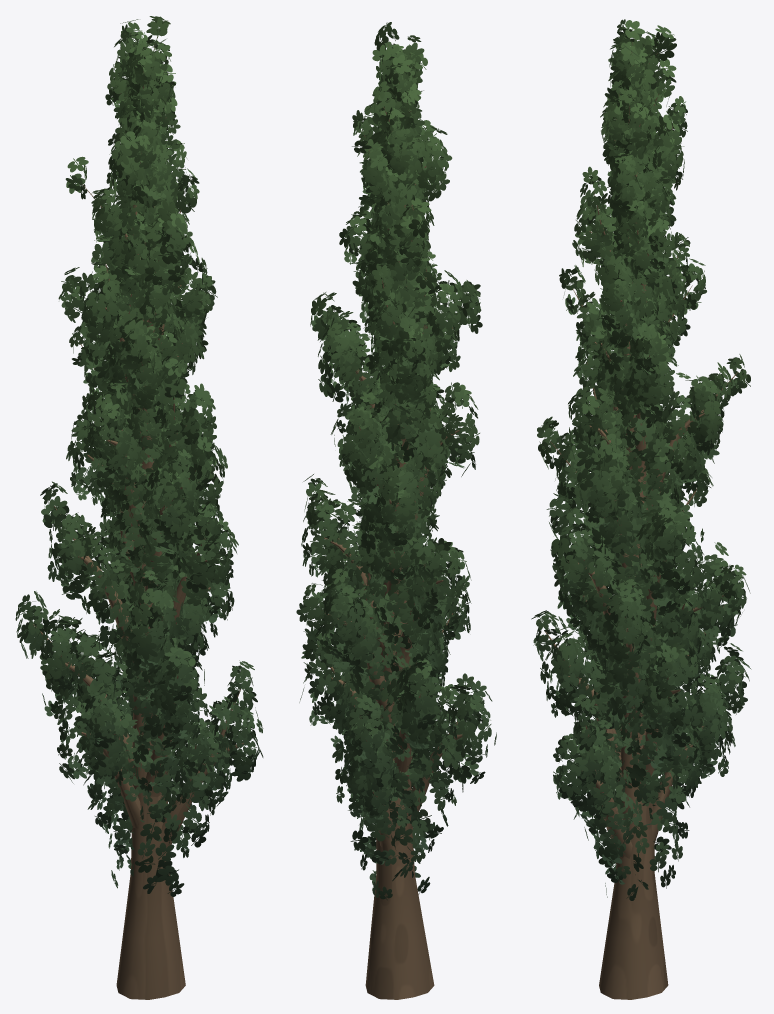
The model's file is tree.gltf.
3 views of the same model, side by side, from view 1: azimuth 30°, elevation 25°; view 2: azimuth 150°, elevation 25°; view 3: azimuth 270°, elevation 25° (orthographic).
Parts seen in each view (by area): view 1: Tree_LOD0; view 2: Tree_LOD0; view 3: Tree_LOD0.
Part boxes in pixels (bbox=[...]): Tree_LOD0: bbox=[15, 16, 263, 999]; Tree_LOD0: bbox=[296, 22, 496, 999]; Tree_LOD0: bbox=[531, 19, 751, 999].
Size of the model in its own units: 5.95 by 30.2 by 6.53.
Materials: 2 (2 with a texture image).
